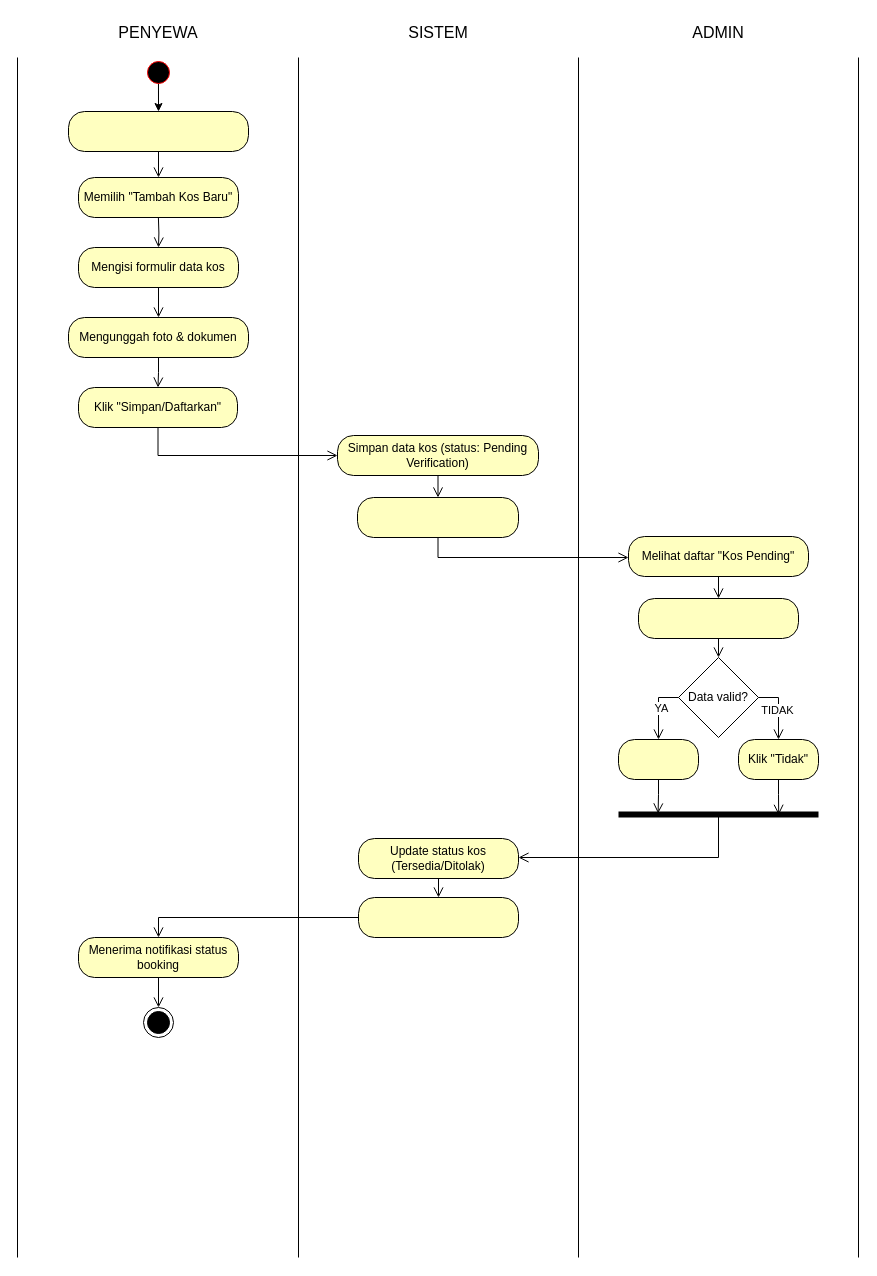
Some shapes in this 877 by 1276 pixel diagram are drawn without their labels. The centre of each missing label's shape, as x and y in pixels:
Kirim notifikasi ke Penyewa: point (438, 917)
Kirim notifikasi tugas ke Admin: point (437, 517)
Klik "Approve": point (658, 759)
Login ke dashboard: point (158, 131)
Memeriksa data & dokumen: point (718, 618)
